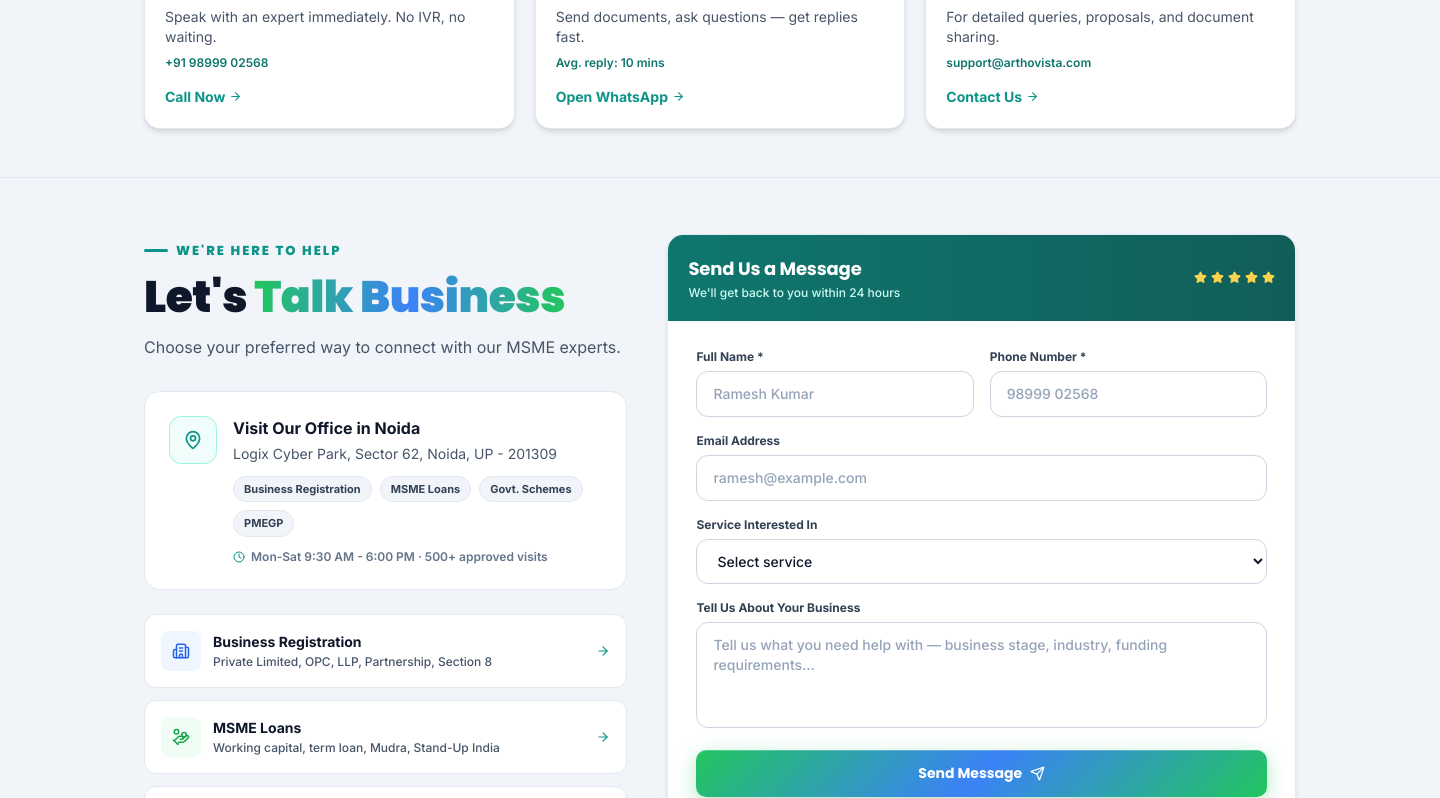
Test: Contact Page Component › displays fallback error message when network request fails
(page scrolled)
Type "Test User" into the field with placeholder "Ramesh Kumar".
click(835, 394); type("Test User")  # box x1=696 y1=370 x2=974 y2=416
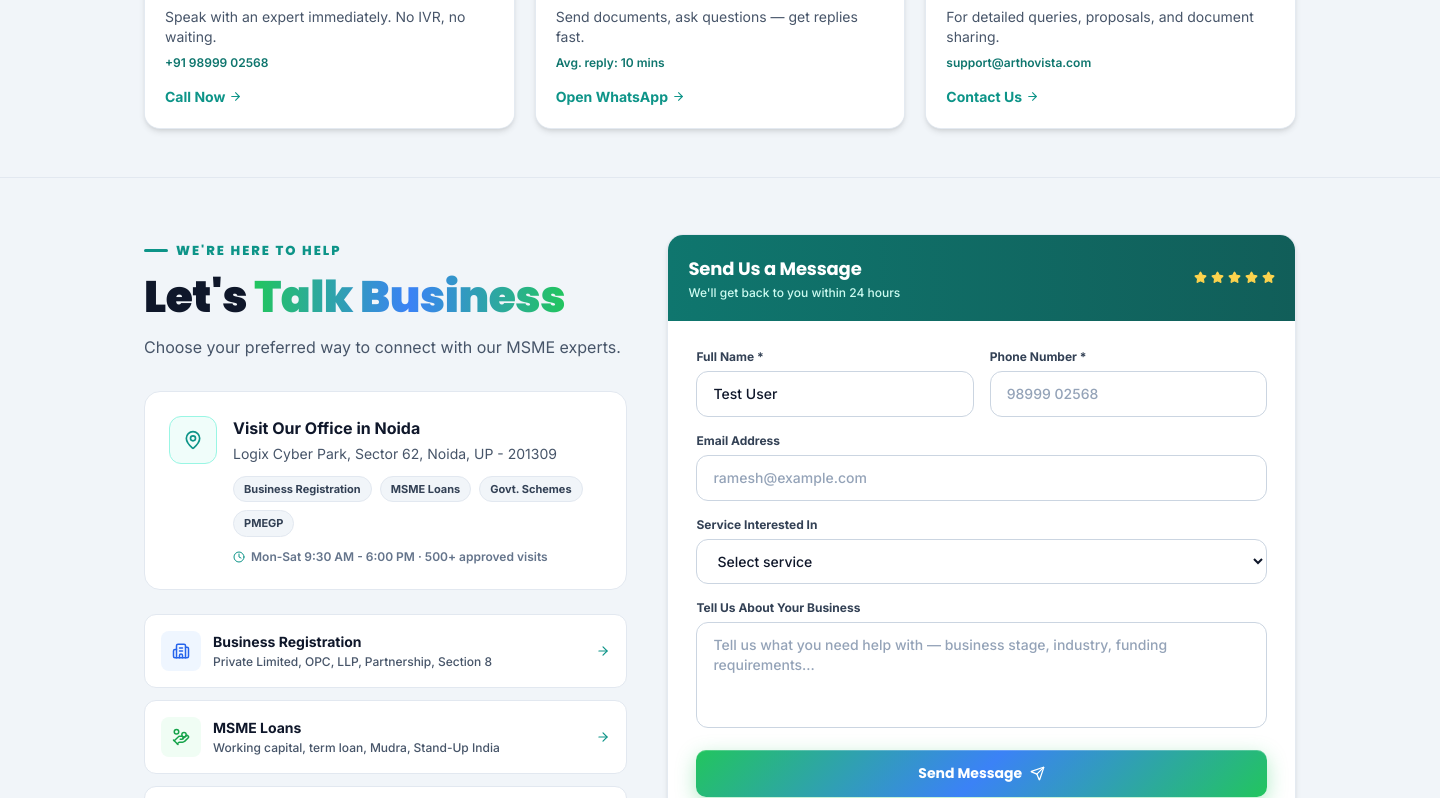
Type "9899902568" into the field with placeholder "98999 02568".
click(1128, 394); type("9899902568")  # box x1=990 y1=370 x2=1267 y2=416
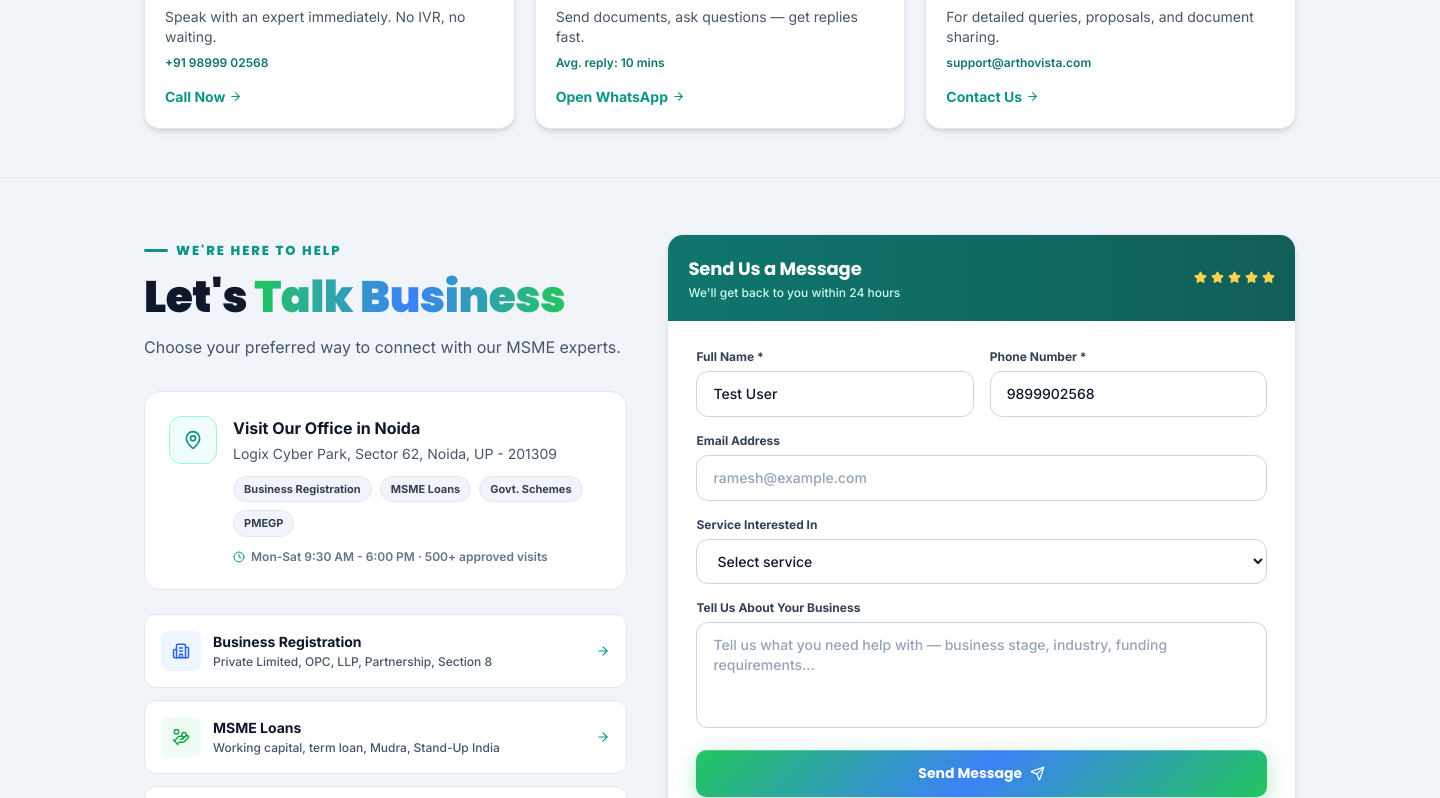
Click the button "Send Message".
click(982, 773)  # box x1=696 y1=750 x2=1267 y2=796
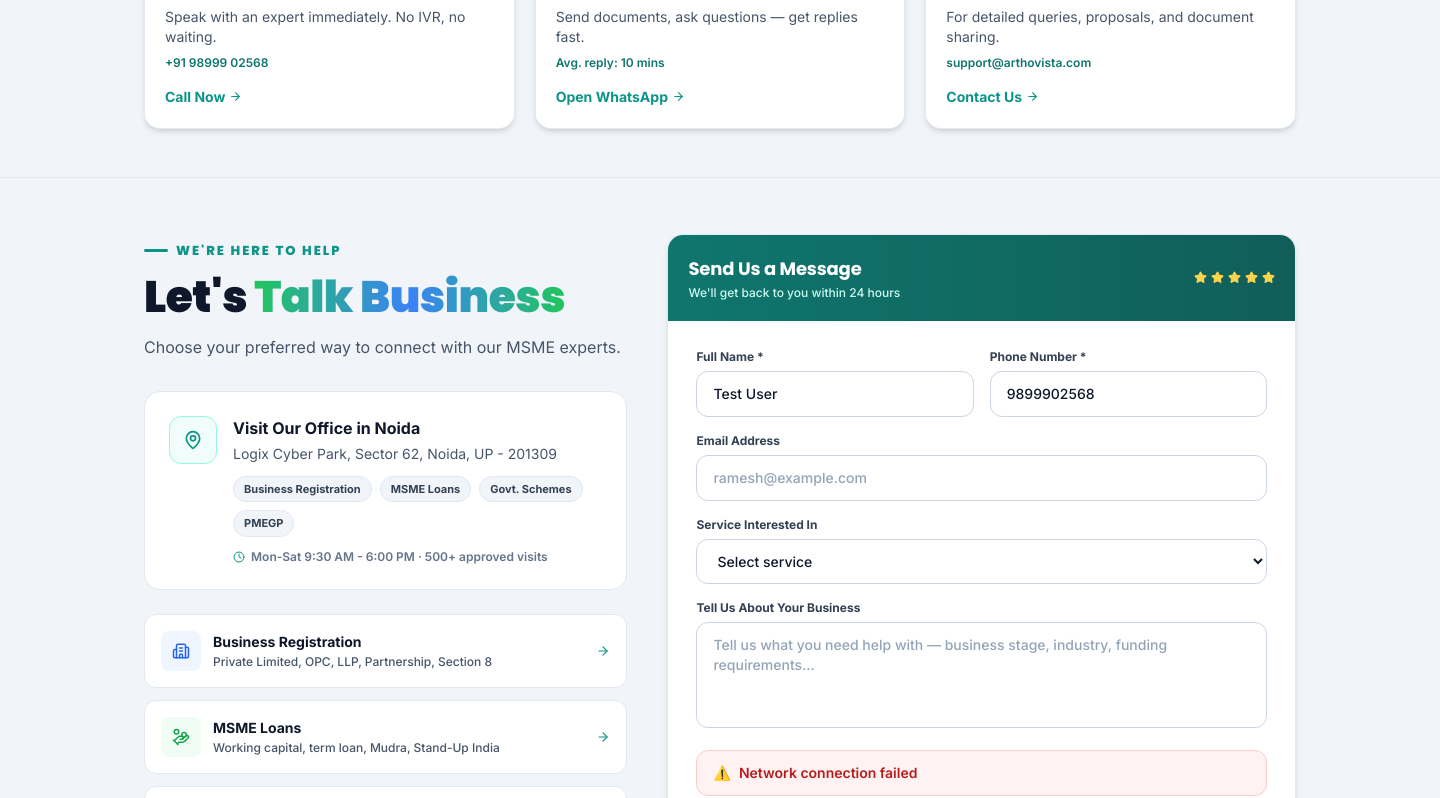
Expected: the text "Network connection failed" is shown, x1=739 y1=762 x2=917 y2=782
